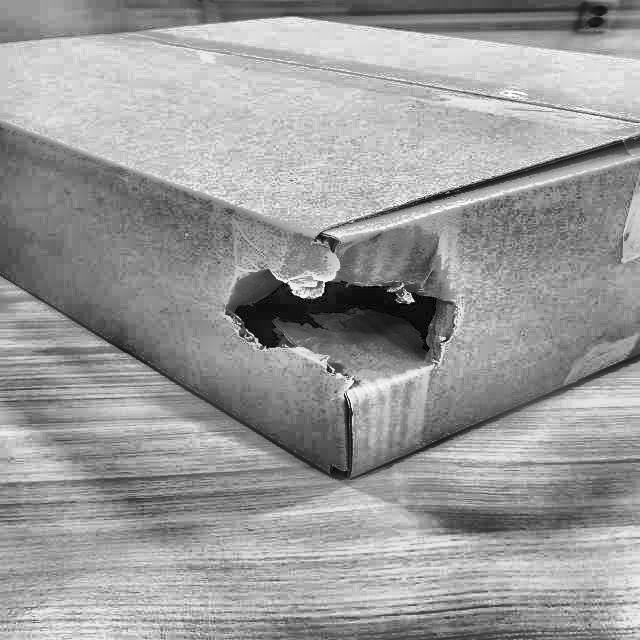box: (0, 13, 639, 485)
hole: (231, 253, 466, 397)
